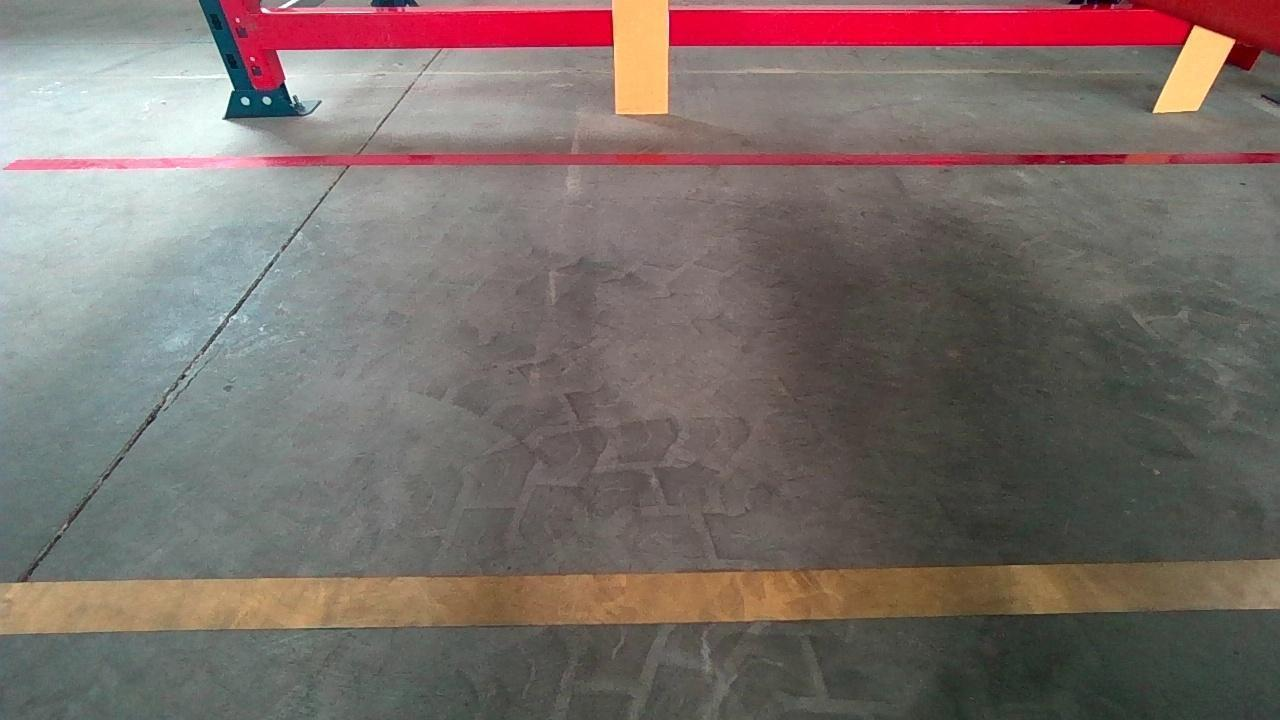red_line: (25, 148, 1262, 175)
